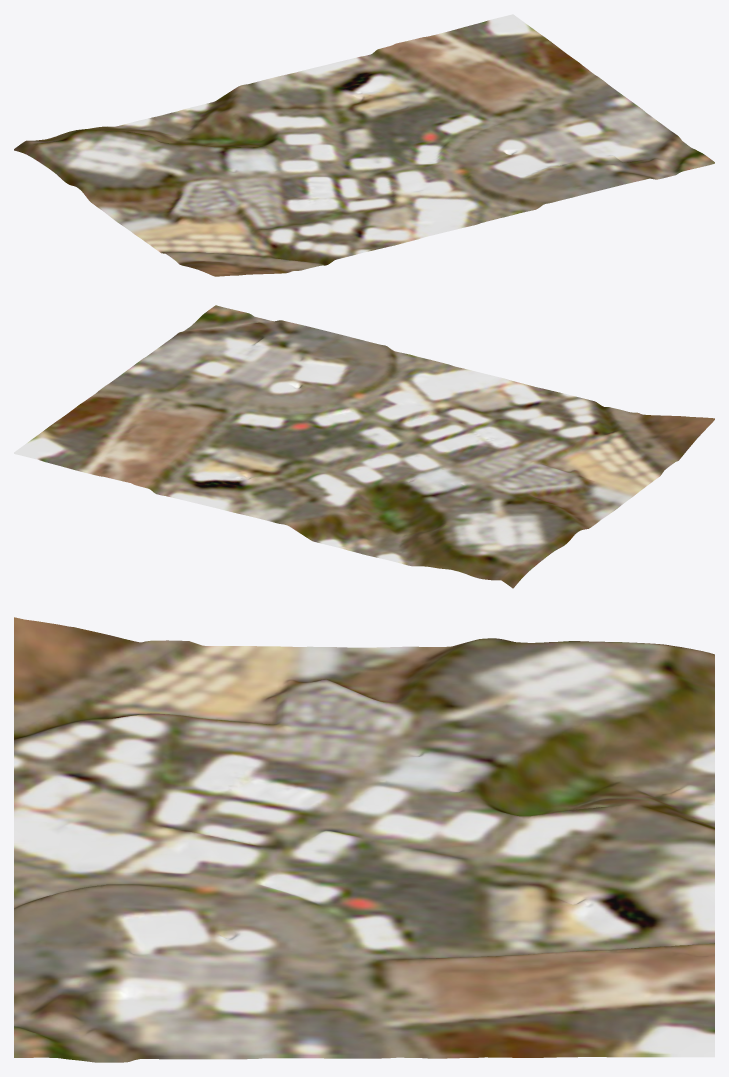
The model's file is terrain_r4_c6.glb.
3 views of the same model, one above another, from view 1: azimuth 30°, elevation 25°; view 2: azimuth 150°, elevation 25°; view 3: azimuth 270°, elevation 25° (orthographic). The views are drawn at different scales.
Parts seen in each view (by area): view 1: terrain_r4_c6_lod0; view 2: terrain_r4_c6_lod0; view 3: terrain_r4_c6_lod0.
Part boxes in pixels (box(x1,y1,x2,y2)): terrain_r4_c6_lod0: box(14, 14, 714, 276); terrain_r4_c6_lod0: box(14, 305, 714, 588); terrain_r4_c6_lod0: box(14, 617, 714, 1062).
Bounding box in the file's own units: 1125 × 54.25 × 787.
1 material, 1 textured.
